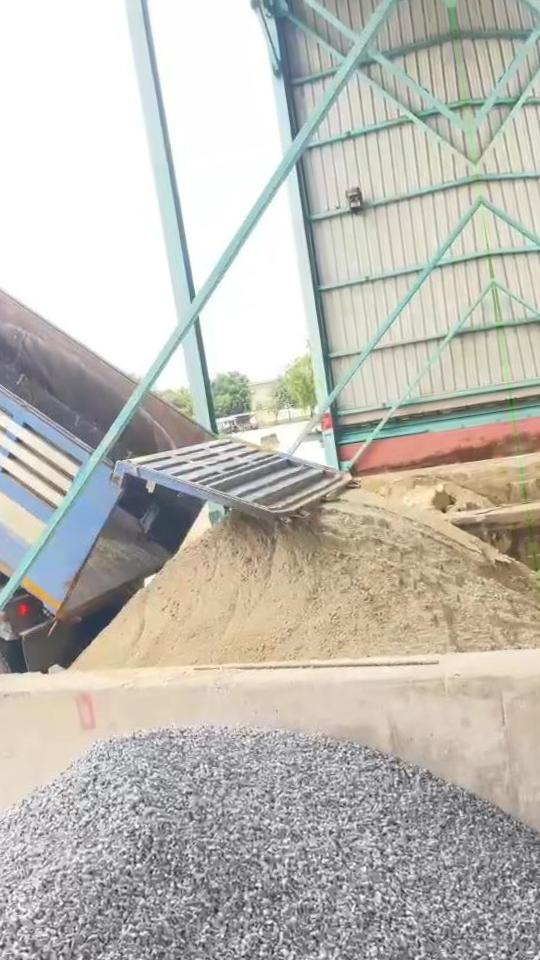gravel: (0, 729, 540, 960)
sand: (75, 491, 540, 669), (390, 477, 502, 514)
